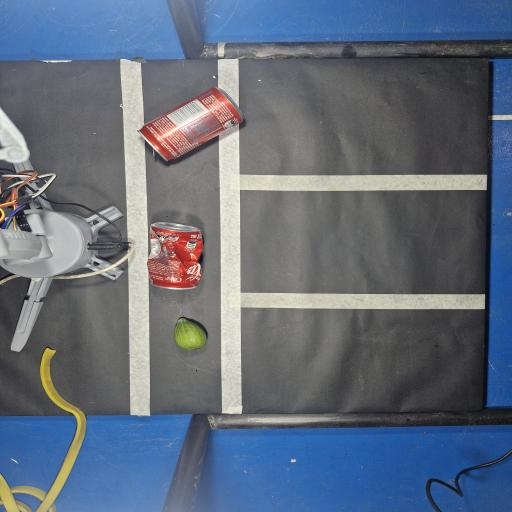higo: (174, 318, 207, 350)
lata: (138, 87, 243, 161)
lata_defectuoso: (147, 223, 203, 289)
